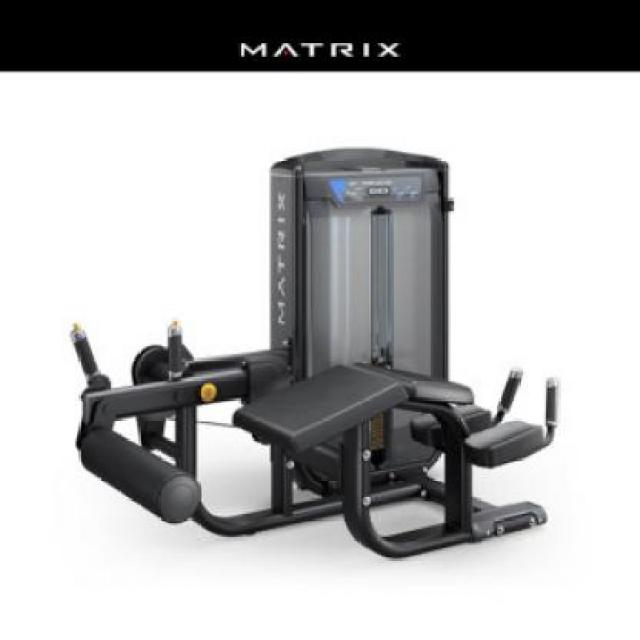reg curl machine: (68, 140, 560, 560)
